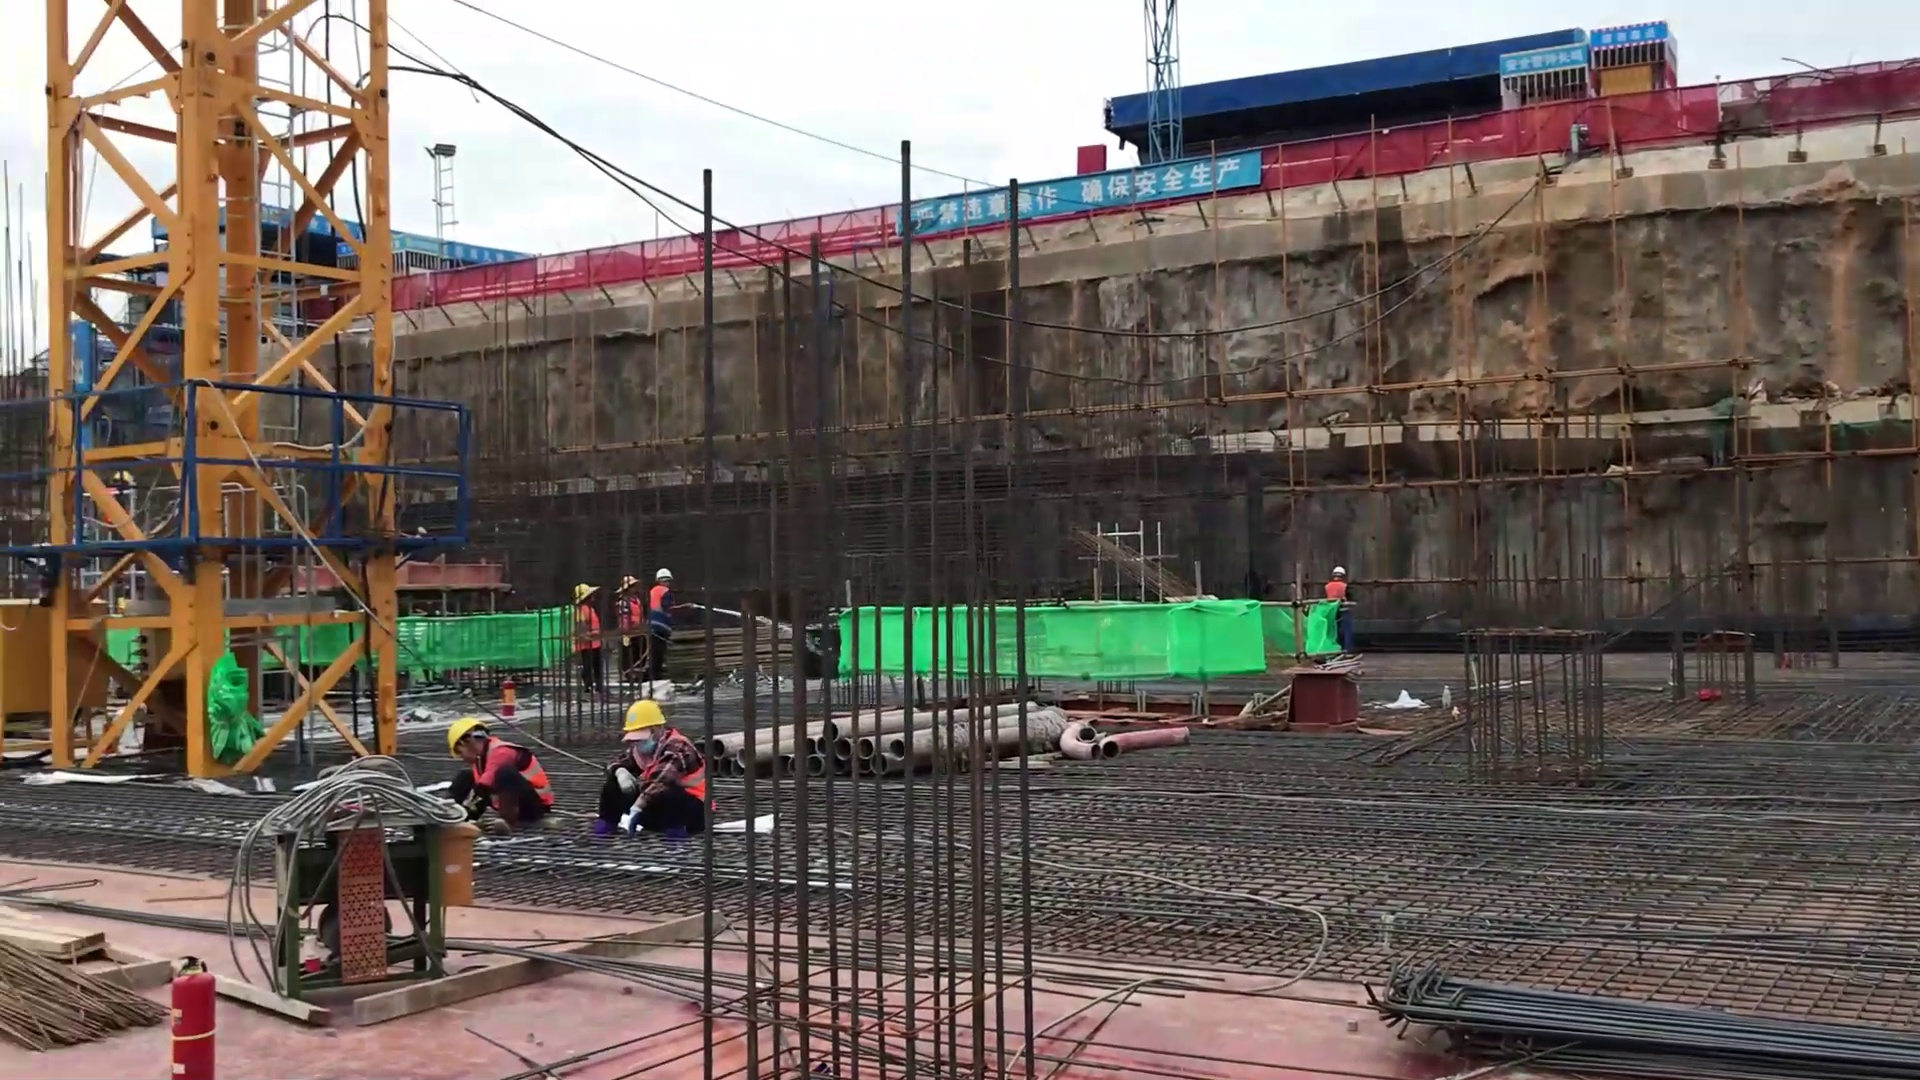board: (674, 594, 798, 679)
helmet: (620, 706, 675, 755), (441, 719, 491, 762), (578, 586, 596, 606)
person: (596, 693, 717, 834), (442, 715, 562, 836), (561, 576, 606, 695), (645, 561, 678, 683), (610, 573, 647, 683), (1318, 557, 1357, 653)
rebar: (1367, 945, 1920, 1075)
slogan: (860, 146, 1278, 234)
vest: (470, 743, 555, 820), (636, 734, 714, 807)
